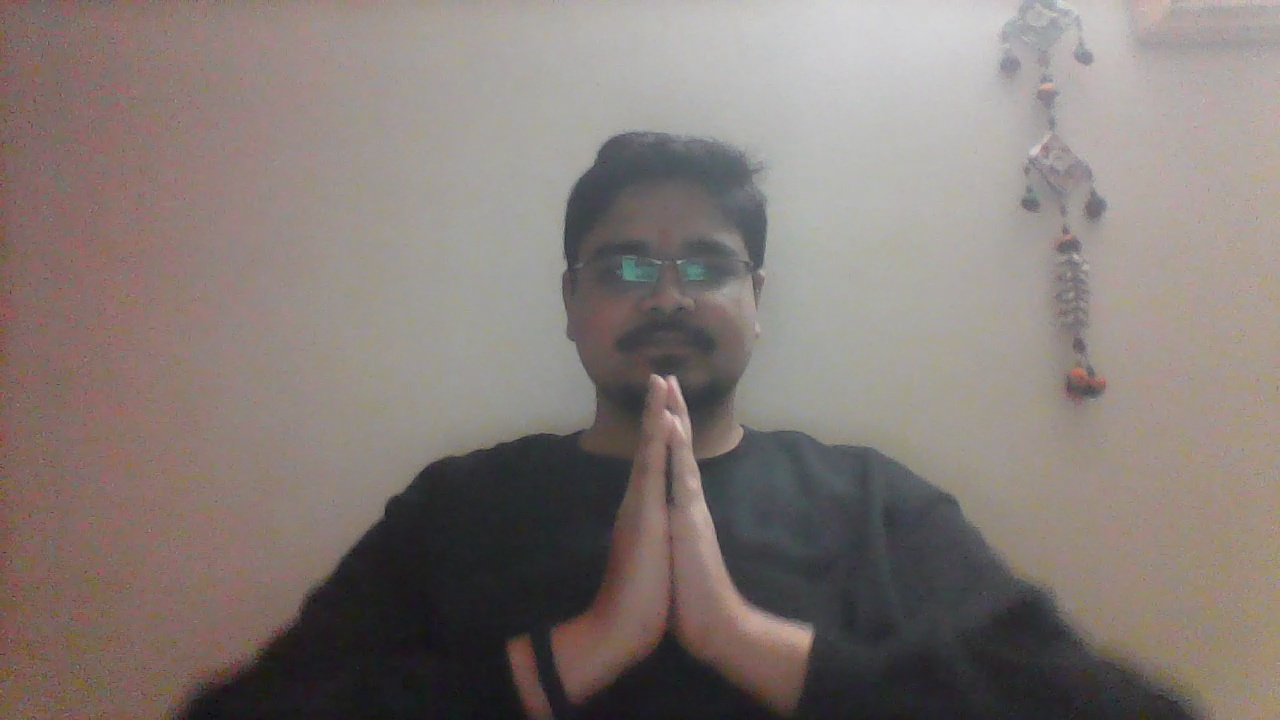Namaste: (576, 371, 781, 697)
